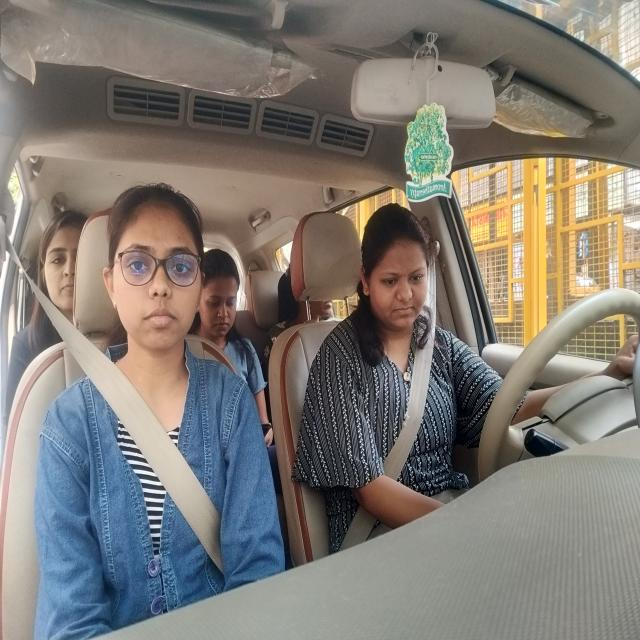person: (102, 179, 206, 377), (346, 202, 446, 361), (32, 200, 77, 345), (197, 231, 246, 352)
